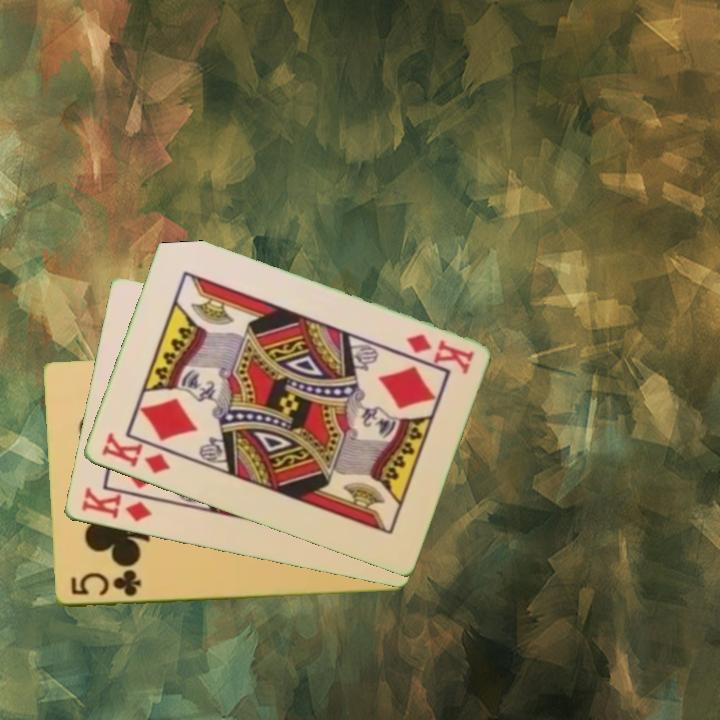5c: (66, 567, 144, 600)
Kd: (97, 429, 173, 477), (402, 330, 477, 376), (77, 484, 154, 525)
